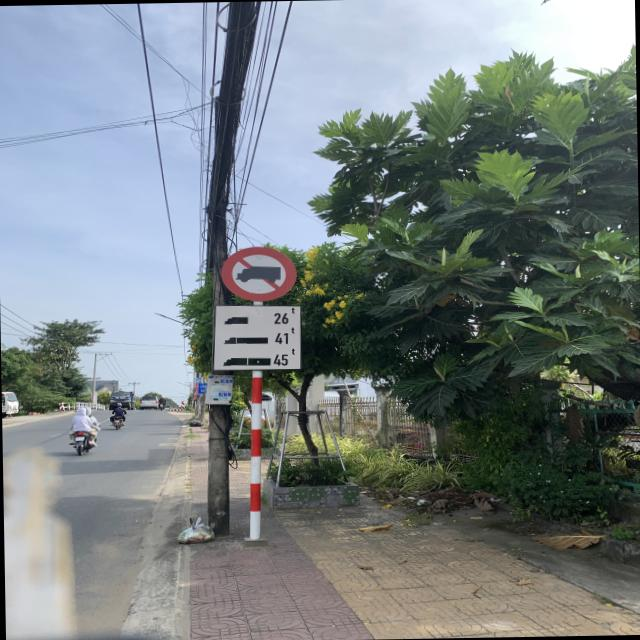Cam_Xe_Tai: (220, 244, 298, 301)
